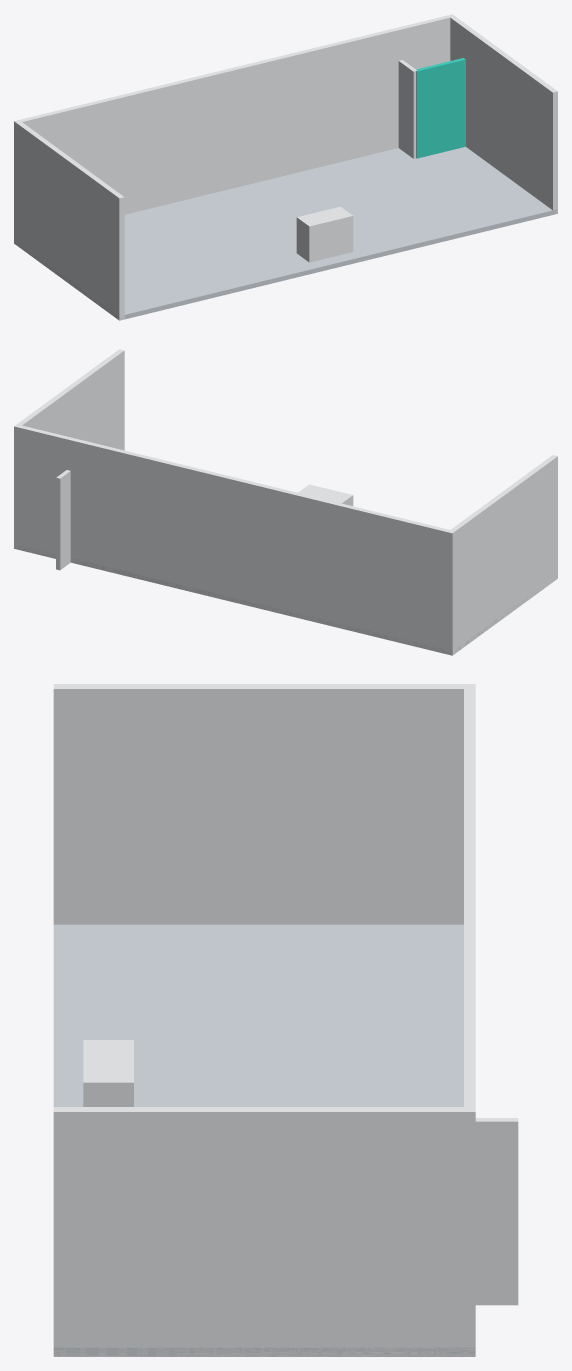
3 views of the same model, one above another, from view 1: azimuth 30°, elevation 25°; view 2: azimuth 150°, elevation 25°; view 3: azimuth 270°, elevation 25° (orthographic). The views are drawn at different scales.
Parts seen in each view (by area): view 1: Exhibition Booth Concept; view 2: Exhibition Booth Concept; view 3: Exhibition Booth Concept.
Boxes of the visible parts, x1,y1,x2,y2 form: Exhibition Booth Concept: (14, 14, 557, 320); Exhibition Booth Concept: (14, 349, 557, 655); Exhibition Booth Concept: (53, 684, 518, 1356).
Bounding box in the file's own units: 12 × 3.2 × 5.51.
